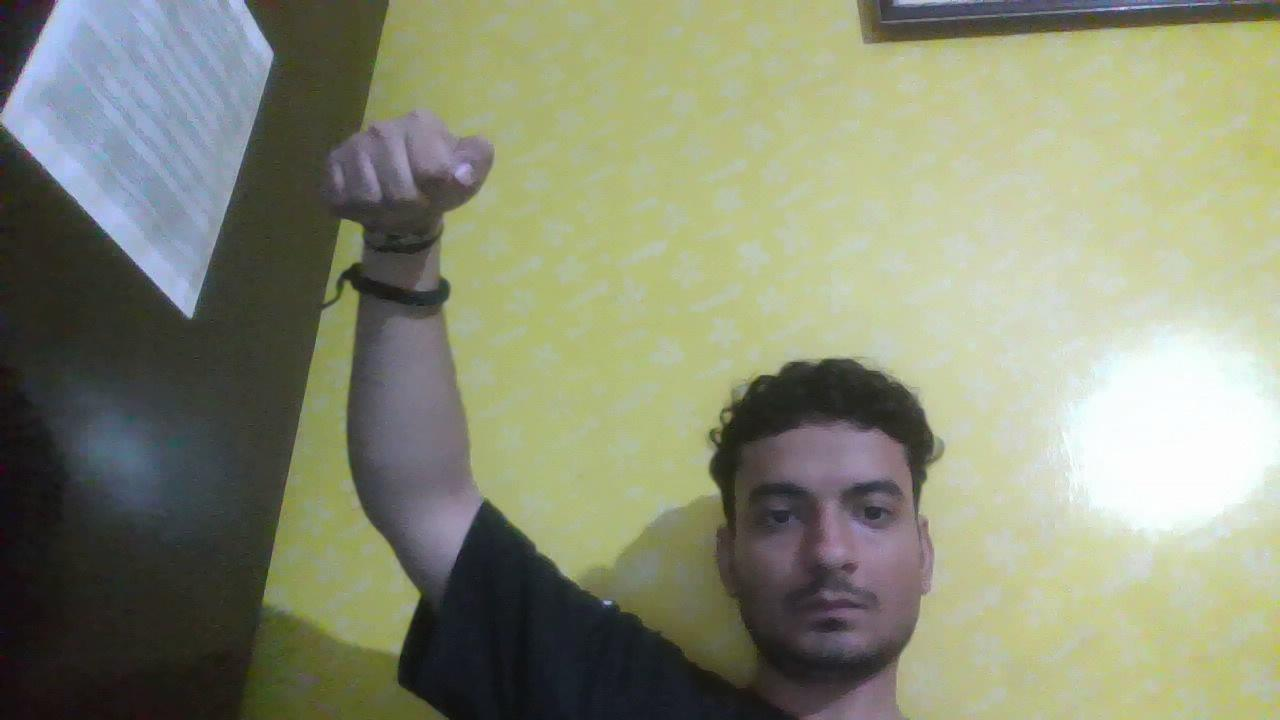Yes: (290, 63, 519, 257)
